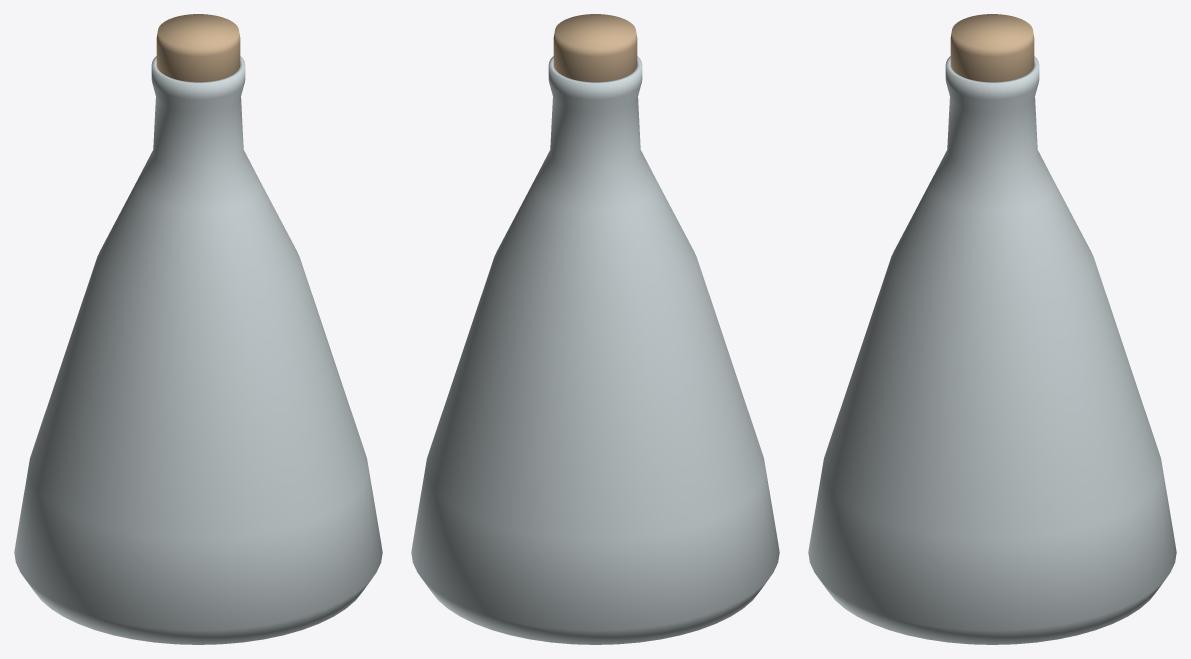
Rendered from bottle_flask.glb.
The picture shows the model from 3 angles, left to right: view 1: azimuth 30°, elevation 25°; view 2: azimuth 150°, elevation 25°; view 3: azimuth 270°, elevation 25°; orthographic projection.
Visible parts, largest first — view 1: Glass, Cap; view 2: Glass, Cap; view 3: Glass, Cap.
Part boxes in pixels (x1=…): Glass: x1=14, y1=56, x2=382, y2=644; Cap: x1=156, y1=14, x2=240, y2=82; Glass: x1=411, y1=56, x2=779, y2=644; Cap: x1=553, y1=14, x2=637, y2=82; Glass: x1=808, y1=56, x2=1176, y2=644; Cap: x1=950, y1=14, x2=1034, y2=82.
Bounding box in the file's own units: 0.13 × 0.215 × 0.13.
